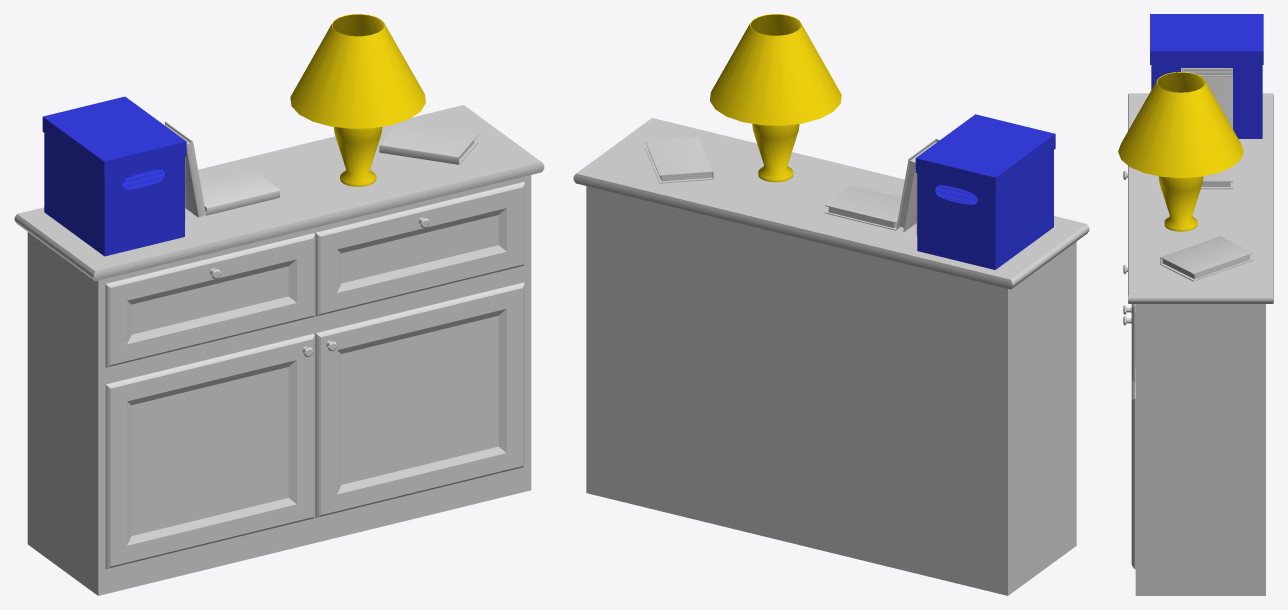
File: drawers export.FBX
3 renders of one model, left to right at view 1: azimuth 30°, elevation 25°; view 2: azimuth 150°, elevation 25°; view 3: azimuth 270°, elevation 25°, orthographic. The views are drawn at different scales.
Visible parts, largest first — view 1: Low Poly Drawer Cupboards, Low Poly Drawer Body, Low Poly Drawer Drawers, Low Poly Drawer Top, Low Poly Box, Lamp, Low Poly Book Closed Cover004, Low Poly Book Closed Cover003, Low Poly Book Closed Cover002; view 2: Low Poly Drawer Body, Low Poly Drawer Top, Low Poly Box, Lamp, Low Poly Book Closed Cover004, Low Poly Book Closed Cover003, Low Poly Book Closed Cover002; view 3: Low Poly Drawer Body, Low Poly Drawer Top, Lamp, Low Poly Box, Low Poly Book Closed Cover004, Low Poly Drawer Cupboards, Low Poly Book Closed Cover002, Low Poly Book Closed Cover003, Low Poly Drawer Drawers.
Part boxes in pixels (box(x1,y1,x2,y2)): Low Poly Drawer Cupboards: box(105, 282, 524, 568); Low Poly Drawer Body: box(27, 175, 531, 595); Low Poly Drawer Drawers: box(105, 182, 524, 367); Low Poly Drawer Top: box(14, 105, 544, 281); Low Poly Box: box(42, 96, 186, 256); Lamp: box(290, 14, 425, 186); Low Poly Book Closed Cover004: box(379, 122, 478, 164); Low Poly Book Closed Cover003: box(200, 169, 279, 215); Low Poly Book Closed Cover002: box(164, 121, 205, 217); Low Poly Drawer Body: box(586, 186, 1076, 595); Low Poly Drawer Top: box(573, 118, 1089, 289); Low Poly Box: box(915, 114, 1055, 269); Lamp: box(710, 14, 841, 182); Low Poly Book Closed Cover004: box(645, 137, 713, 183); Low Poly Book Closed Cover003: box(824, 185, 901, 230); Low Poly Book Closed Cover002: box(896, 138, 939, 232); Low Poly Drawer Body: box(1135, 304, 1265, 595); Low Poly Drawer Top: box(1128, 93, 1273, 303); Lamp: box(1118, 72, 1243, 231); Low Poly Box: box(1150, 14, 1263, 138); Low Poly Book Closed Cover004: box(1160, 236, 1253, 281); Low Poly Drawer Cupboards: box(1123, 305, 1135, 569); Low Poly Book Closed Cover002: box(1202, 76, 1232, 128); Low Poly Book Closed Cover003: box(1201, 166, 1232, 189); Low Poly Drawer Drawers: box(1123, 170, 1135, 382).
Size of the model in its own units: 141 by 144 by 45.54.
